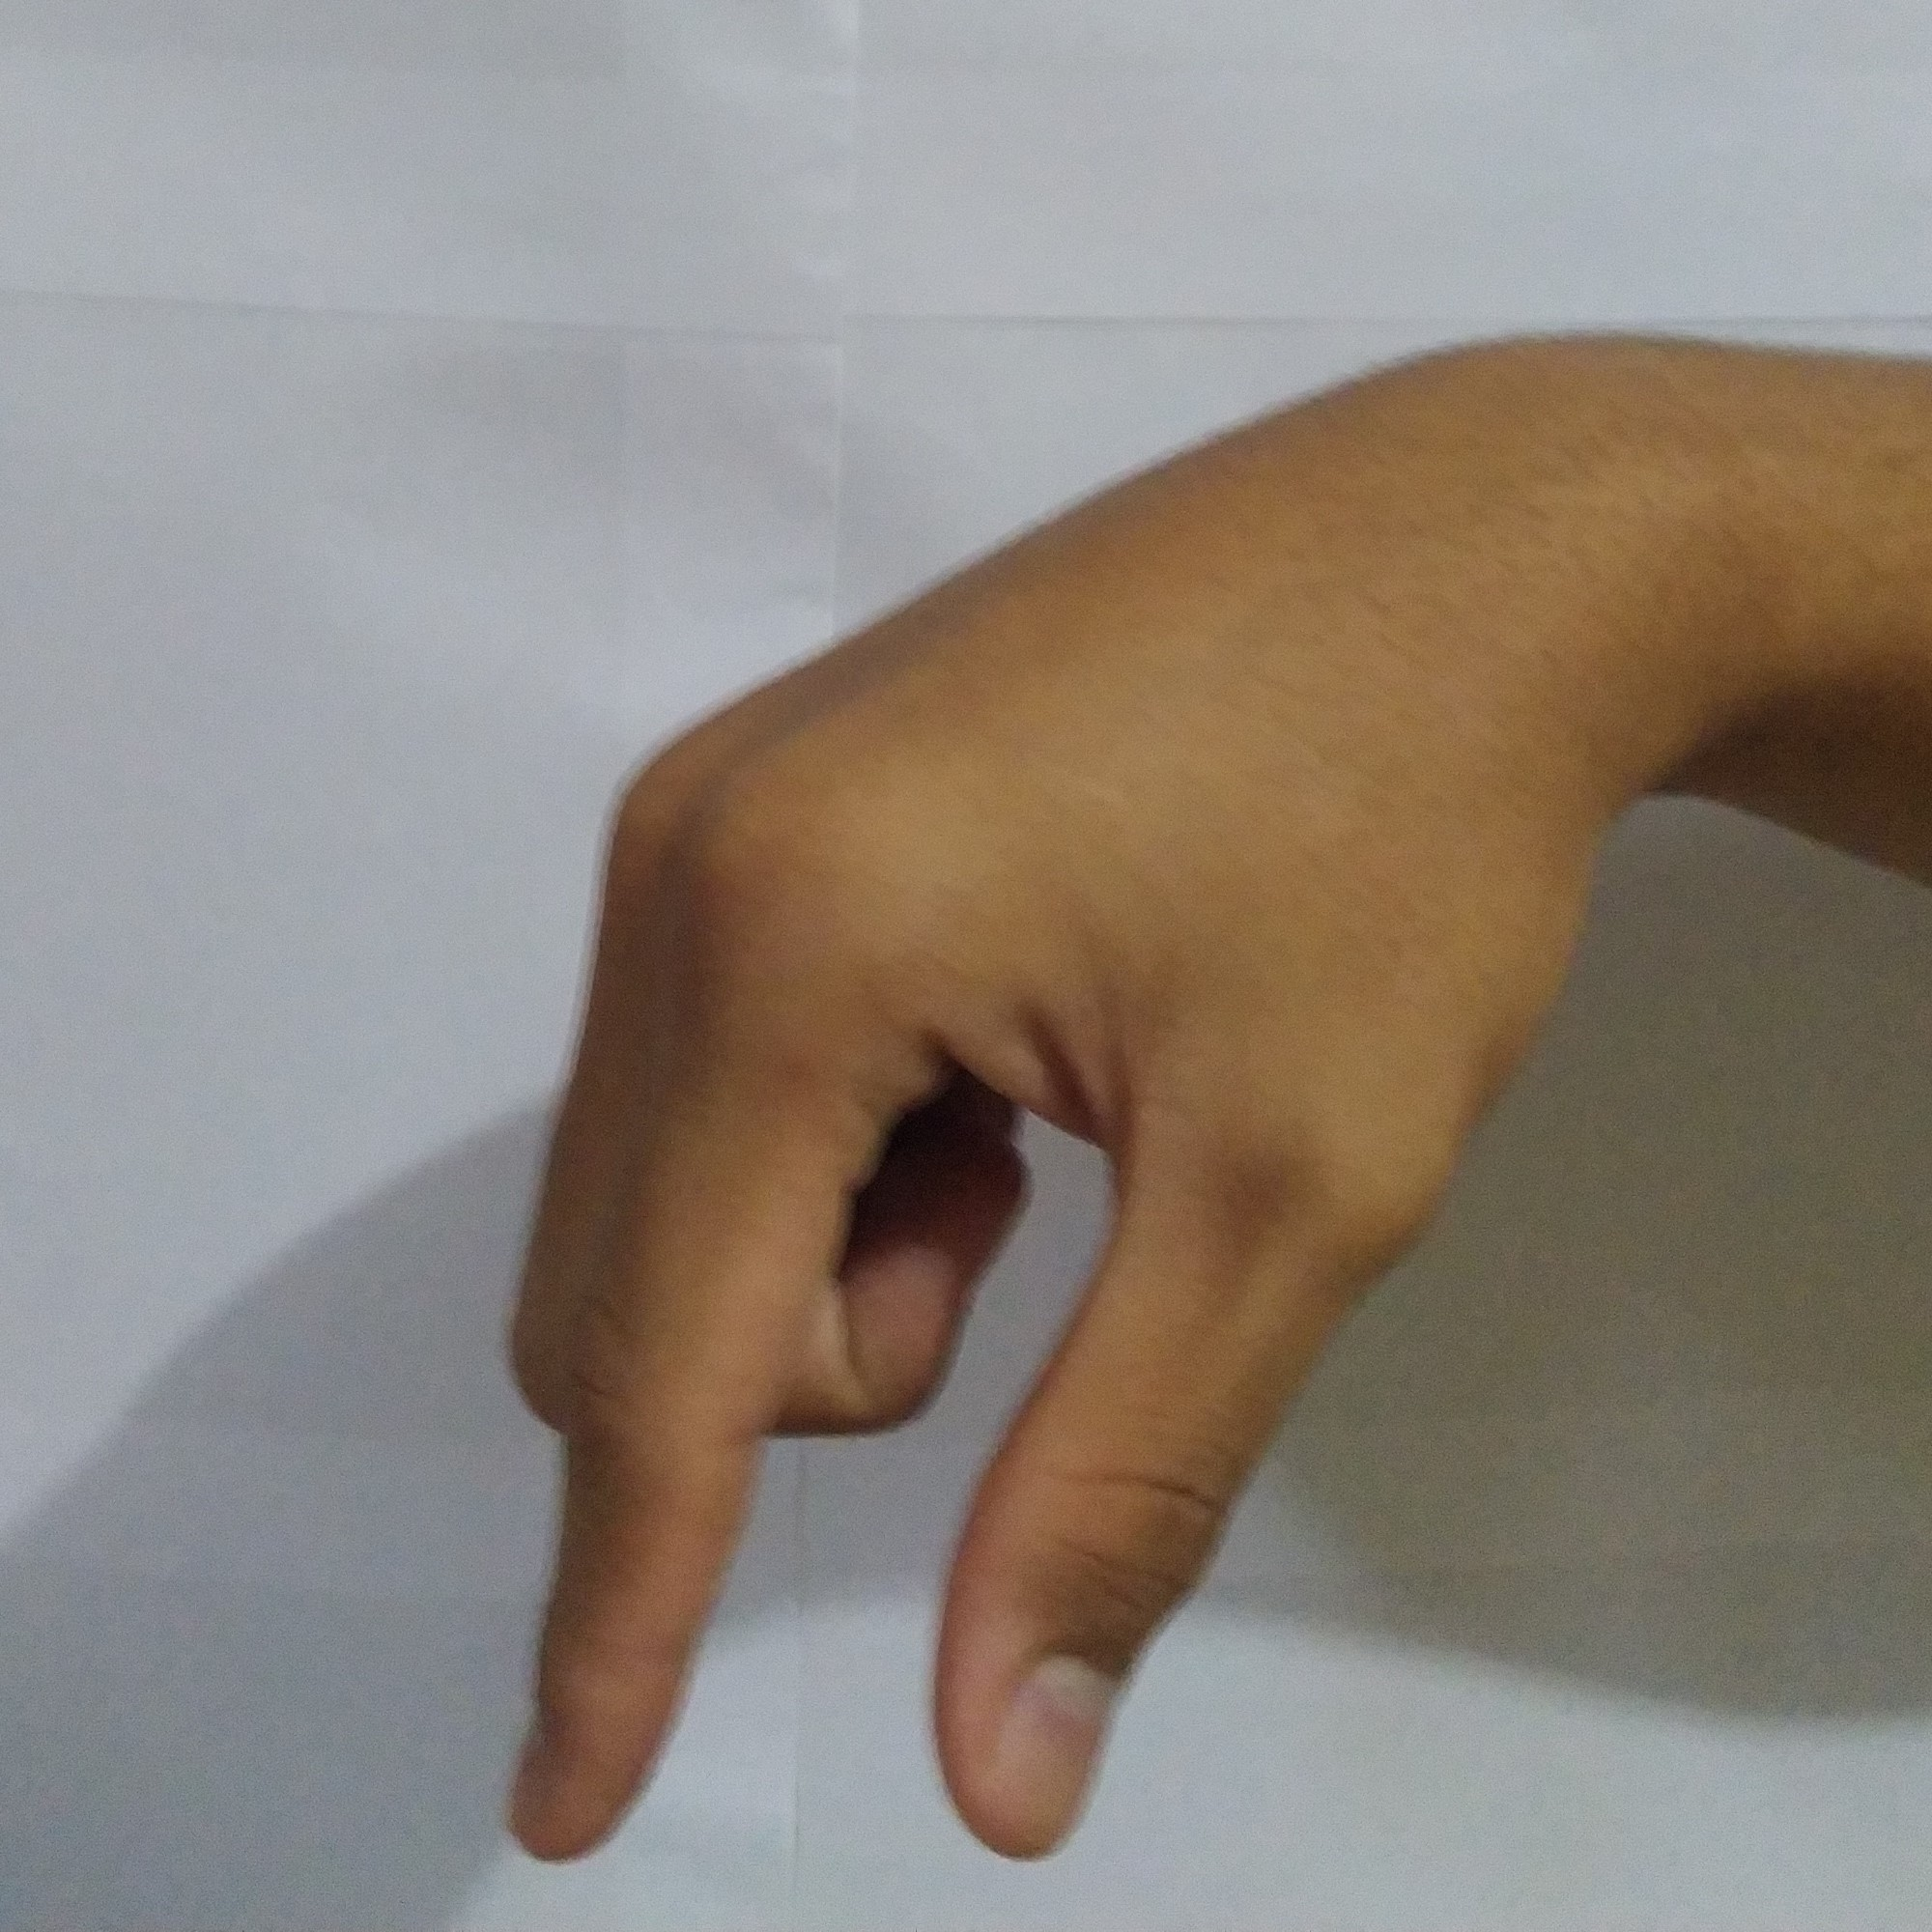Q: (442, 333, 1626, 1893)
